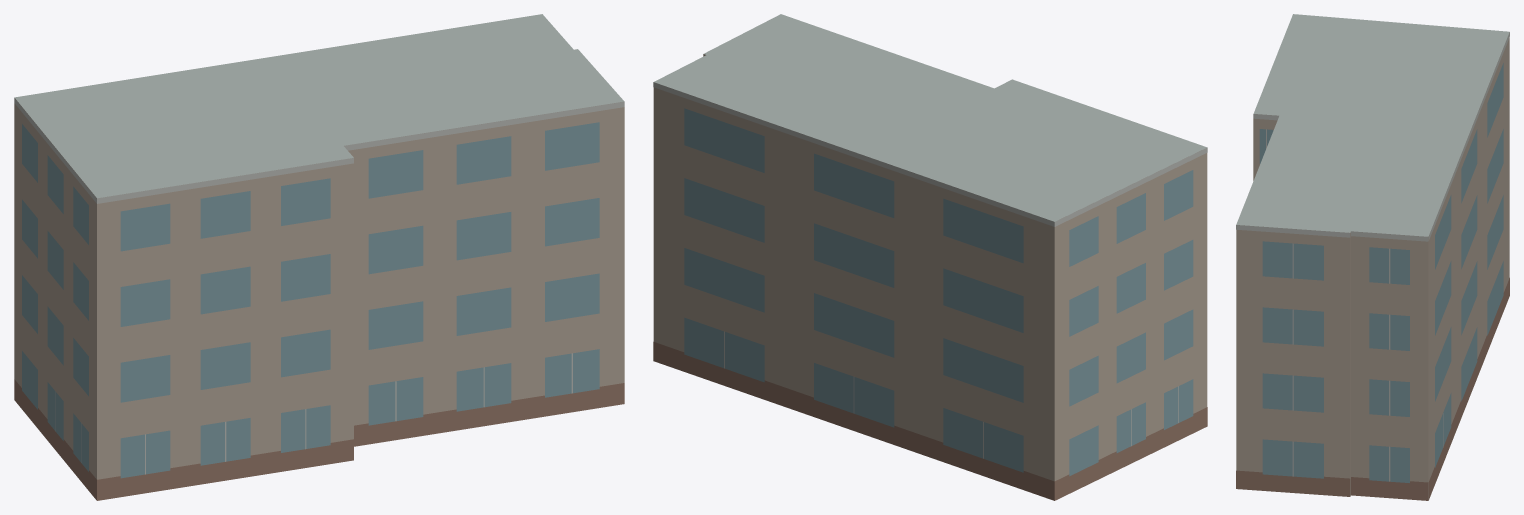
File: survey-upis-32929566.glb
The picture shows the model from 3 angles, left to right: view 1: azimuth 30°, elevation 25°; view 2: azimuth 150°, elevation 25°; view 3: azimuth 270°, elevation 25°; orthographic projection. The views are drawn at different scales.
Parts seen in each view (by area): view 1: survey-upis-32929566.tmp; view 2: survey-upis-32929566.tmp; view 3: survey-upis-32929566.tmp.
Boxes of the visible parts, left/top/right/bottom form: survey-upis-32929566.tmp: left=14, top=14, right=624, bottom=500; survey-upis-32929566.tmp: left=653, top=14, right=1207, bottom=500; survey-upis-32929566.tmp: left=1236, top=14, right=1509, bottom=500.
Bounding box in the file's own units: 23.89 × 13.2 × 12.41.
